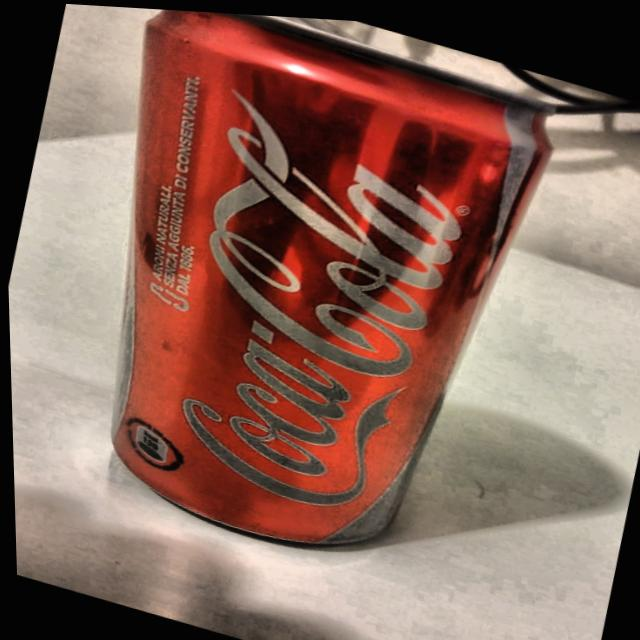Cans: (16, 1, 590, 608)
